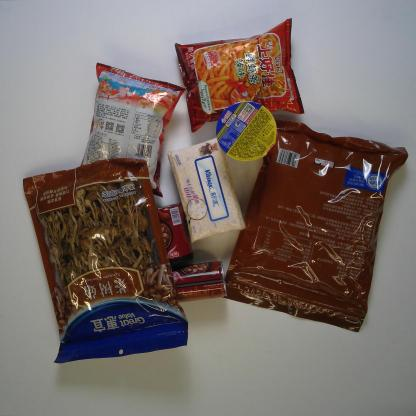Canned Food: (157, 201, 195, 268), (171, 260, 228, 303)
Dried Food: (222, 119, 409, 334), (22, 157, 190, 364)
Instant Noodles: (215, 100, 278, 163)
Puffed Food: (174, 17, 306, 133), (80, 62, 187, 199)
Tissue: (166, 137, 247, 244)
